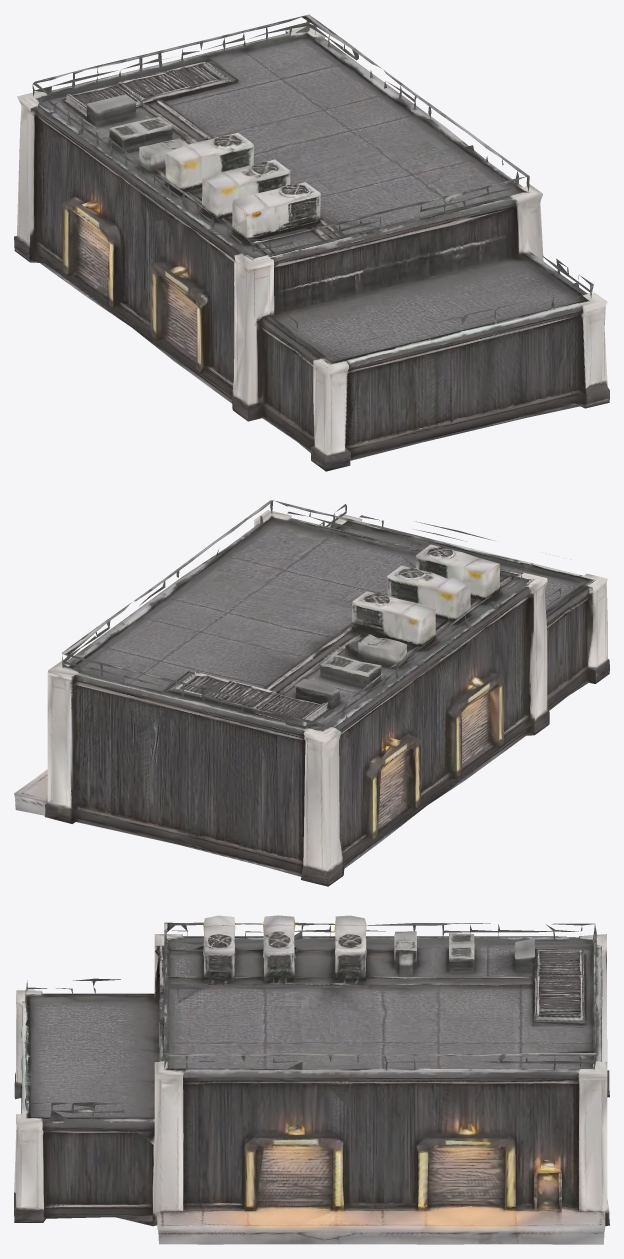
File: loadingHall.glb
3 views of the same model, one above another, from view 1: azimuth 30°, elevation 25°; view 2: azimuth 150°, elevation 25°; view 3: azimuth 270°, elevation 25° (orthographic). The views are drawn at different scales.
Parts seen in each view (by area): view 1: loadingHall; view 2: loadingHall; view 3: loadingHall.
Boxes of the visible parts, x1,y1,x2,y2 form: loadingHall: [14, 14, 609, 471]; loadingHall: [14, 500, 609, 886]; loadingHall: [14, 915, 609, 1244].
Size of the model in its own units: 17.79 by 9.64 by 28.
Materials: 1 (1 with a texture image).
